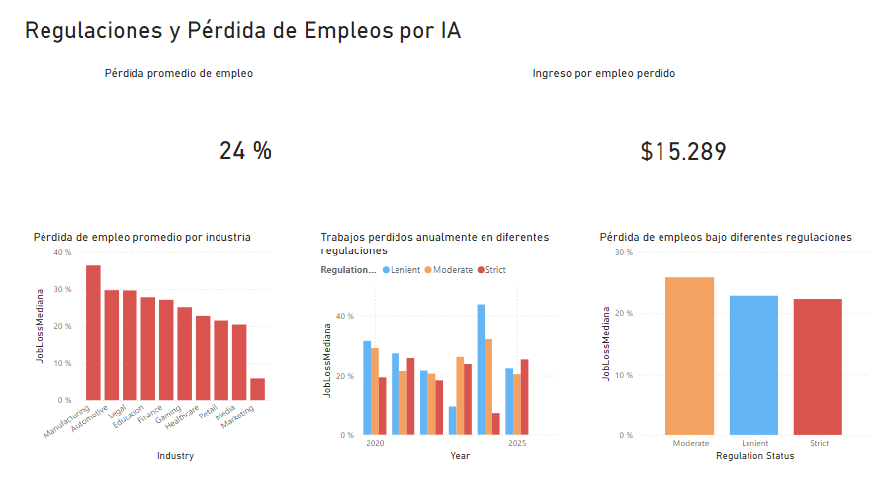

What the dashboard file says about the page in this screenshot:
{"tool":"powerbi","page":{"name":"Regulaciones y pérdida de empleos","canvas":[1280,720],"ordinal":1},"visuals":[{"type":"clusteredColumnChart","title":"Trabajos perdidos anualmente en diferentes regulaciones","fields":{"Category":["Global_AI_Content_Impact_Dataset.Year"],"Y":["Global_AI_Content_Impact_Dataset.JobLossMediana"],"Series":["Global_AI_Content_Impact_Dataset.Regulation Status"]},"box":[485.6,331.8,354.4,338.8],"z":0},{"type":"card","title":"Pérdida promedio de empleo","fields":{"Values":["Global_AI_Content_Impact_Dataset.PerdidaEmpleo"]},"box":[149.6,96,417.9,218.8],"z":1000},{"type":"actionButton","box":[0,0,100,40],"z":2000},{"type":"columnChart","title":"Pérdida de empleos bajo diferentes regulaciones","fields":{"Category":["Global_AI_Content_Impact_Dataset.Regulation Status"],"Y":["Global_AI_Content_Impact_Dataset.JobLossMediana"]},"box":[883.8,331.8,396.7,307.8],"z":3000},{"type":"clusteredColumnChart","title":"Pérdida de empleo promedio por industria","fields":{"Category":["Global_AI_Content_Impact_Dataset.Industry"],"Y":["Global_AI_Content_Impact_Dataset.JobLossMediana"]},"box":[64.9,331.8,355.8,376.9],"z":4000},{"type":"textbox","box":[33.9,19.8,648,60.7],"z":5000},{"type":"card","title":"Ingreso por empleo perdido ","fields":{"Values":["Global_AI_Content_Impact_Dataset.ValorPorEmpleoPerdido"]},"box":[768,96,446.1,220.2],"z":6000}]}

Visuals, with their boxes in screenshot pixels (x1, y1, x2, y2), scaled from the page's 1280x720 canvas onto the 881x499 screenshot:
"Trabajos perdidos anualmente en diferentes regulaciones" clusteredColumnChart: 334:230:578:465
"Pérdida promedio de empleo" card: 103:67:391:218
actionButton: 0:0:69:28
"Pérdida de empleos bajo diferentes regulaciones" columnChart: 608:230:880:443
"Pérdida de empleo promedio por industria" clusteredColumnChart: 45:230:290:491
textbox: 23:14:469:56
"Ingreso por empleo perdido " card: 529:67:836:219
